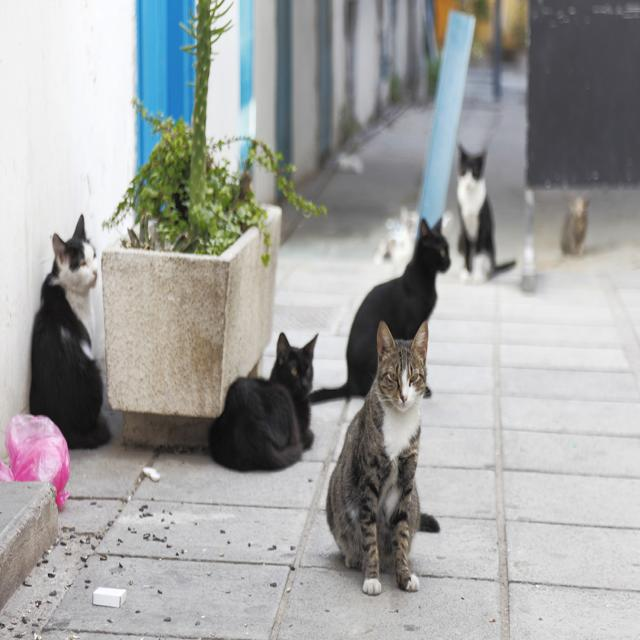cat: (326, 321, 439, 595), (310, 219, 450, 403), (30, 216, 110, 448), (210, 333, 317, 471), (456, 146, 515, 283), (561, 195, 590, 255)
